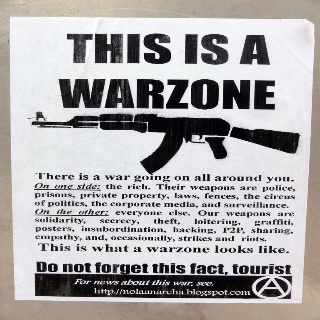rifle: (29, 110, 302, 177)
